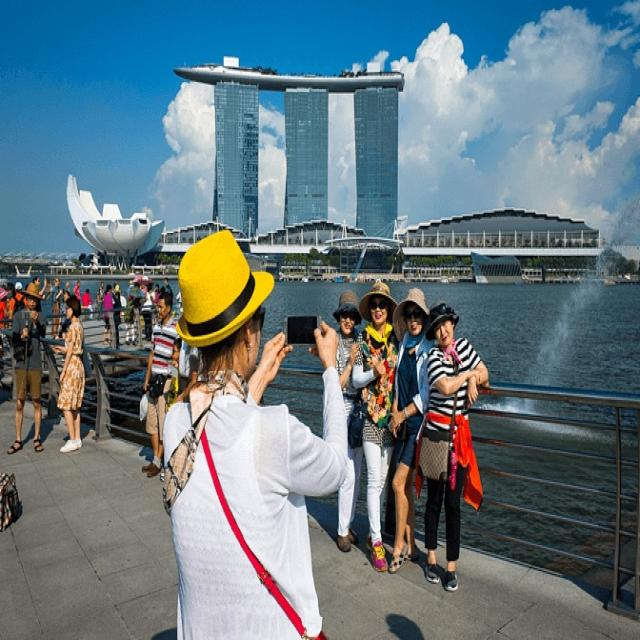body: (157, 222, 351, 638), (412, 298, 490, 592), (350, 279, 403, 574), (387, 284, 436, 576), (331, 289, 365, 554), (139, 289, 180, 479), (6, 280, 46, 456), (52, 292, 87, 454), (175, 335, 200, 406), (140, 282, 156, 344), (109, 282, 123, 351), (122, 290, 136, 350), (101, 282, 114, 346), (50, 275, 63, 338), (31, 274, 49, 314), (8, 279, 28, 314), (58, 289, 72, 334), (125, 273, 154, 292), (95, 279, 107, 322), (0, 285, 11, 331), (168, 336, 182, 369), (2, 280, 15, 314), (72, 279, 82, 316), (81, 286, 95, 312), (175, 286, 183, 314), (22, 276, 30, 291), (63, 278, 73, 289), (164, 276, 171, 291)
